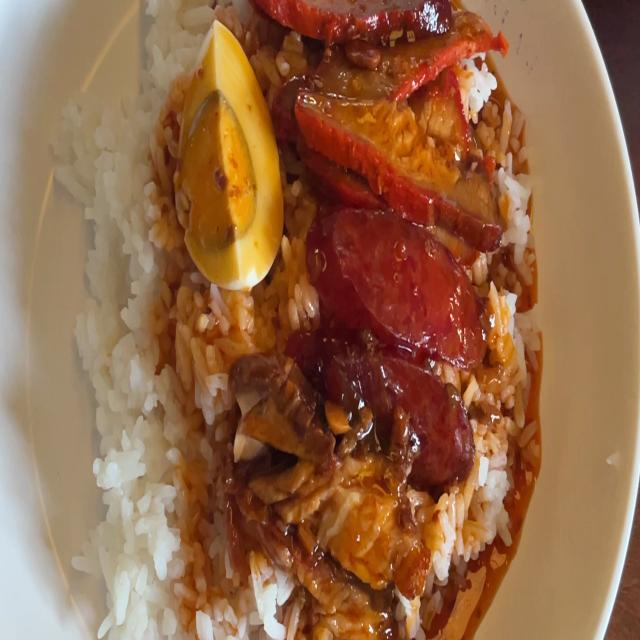red_pork_and_crispy_pork: (175, 32, 284, 284)
stir_fried_basil: (293, 211, 472, 457)
